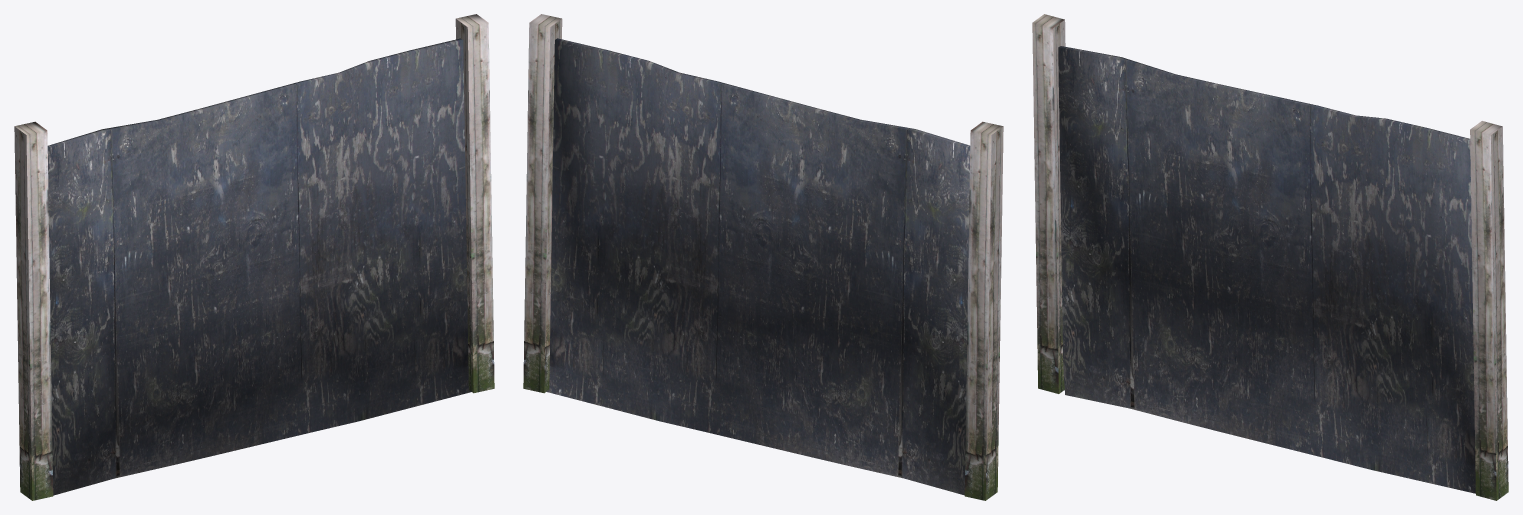
Rendered from wornfence.obj.
3 renders of one model, left to right at view 1: azimuth 30°, elevation 25°; view 2: azimuth 150°, elevation 25°; view 3: azimuth 330°, elevation 25°, orthographic.
Visible parts, largest first — view 1: def_surf_mat; view 2: def_surf_mat; view 3: def_surf_mat.
Part boxes in pixels (x1,y1,x2,y2): def_surf_mat: [14, 14, 494, 500]; def_surf_mat: [523, 14, 1003, 500]; def_surf_mat: [1032, 14, 1508, 500].
Size of the model in its own units: 146 by 111 by 6.55.
1 material, 1 textured.
